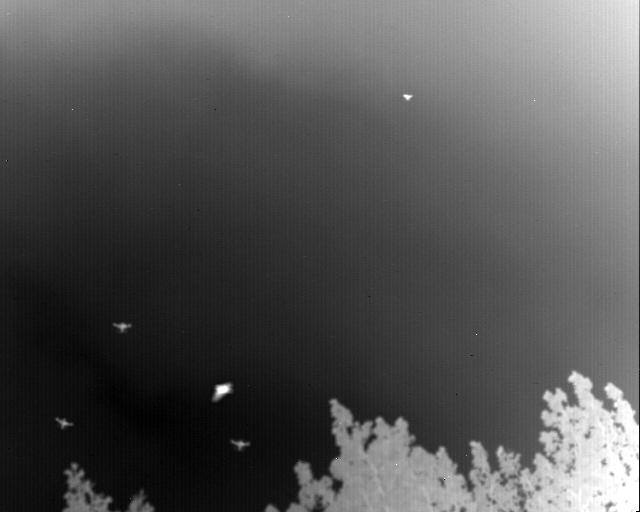plane: (56, 416, 74, 429), (231, 438, 250, 450), (113, 322, 132, 333), (403, 93, 413, 101)
